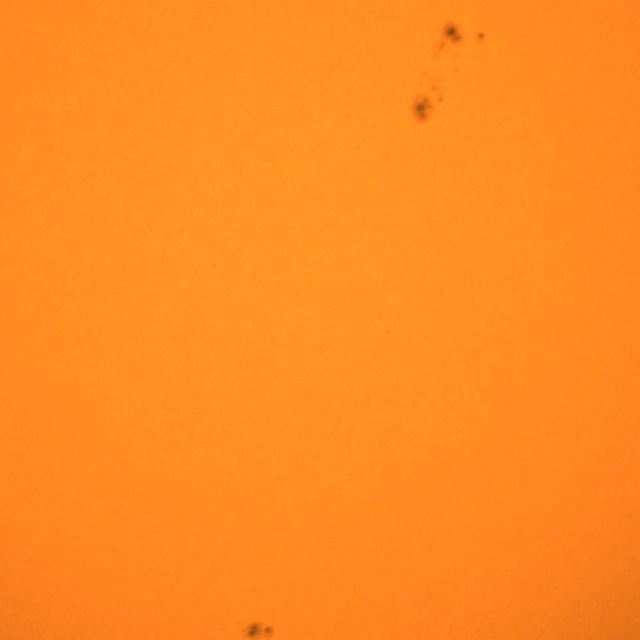sunspot: (411, 89, 444, 125), (436, 22, 466, 54), (239, 621, 276, 640), (476, 30, 486, 42)
